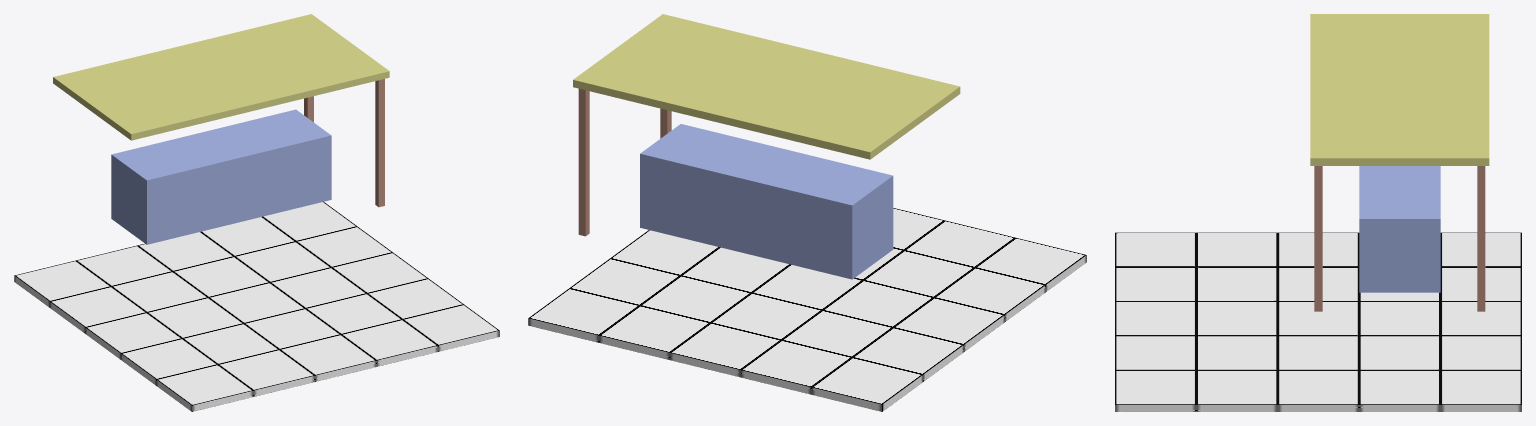
The model's file is XG_Small-Market.glb.
3 renders of one model, left to right at view 1: azimuth 30°, elevation 25°; view 2: azimuth 150°, elevation 25°; view 3: azimuth 270°, elevation 25°, orthographic. The views are drawn at different scales.
Parts seen in each view (by area): view 1: ground_5_x_5_007, Box595, Box590, Box592; view 2: ground_5_x_5_007, Box595, Box590, Box594; view 3: ground_5_x_5_007, Box595, Box590, Box592, Box594.
Part boxes in pixels (x1=…): ground_5_x_5_007: x1=14, y1=201, x2=499, y2=411; Box595: x1=53, y1=14, x2=389, y2=140; Box590: x1=111, y1=109, x2=331, y2=244; Box592: x1=375, y1=79, x2=384, y2=207; ground_5_x_5_007: x1=528, y1=208, x2=1086, y2=411; Box595: x1=573, y1=14, x2=960, y2=159; Box590: x1=640, y1=124, x2=893, y2=279; Box594: x1=578, y1=88, x2=589, y2=236; ground_5_x_5_007: x1=1115, y1=232, x2=1521, y2=411; Box595: x1=1310, y1=14, x2=1489, y2=165; Box590: x1=1359, y1=166, x2=1440, y2=292; Box592: x1=1314, y1=166, x2=1322, y2=311; Box594: x1=1477, y1=166, x2=1485, y2=311.
Bounding box in the file's own units: 5 × 3.25 × 5.
4 materials, 1 textured.
